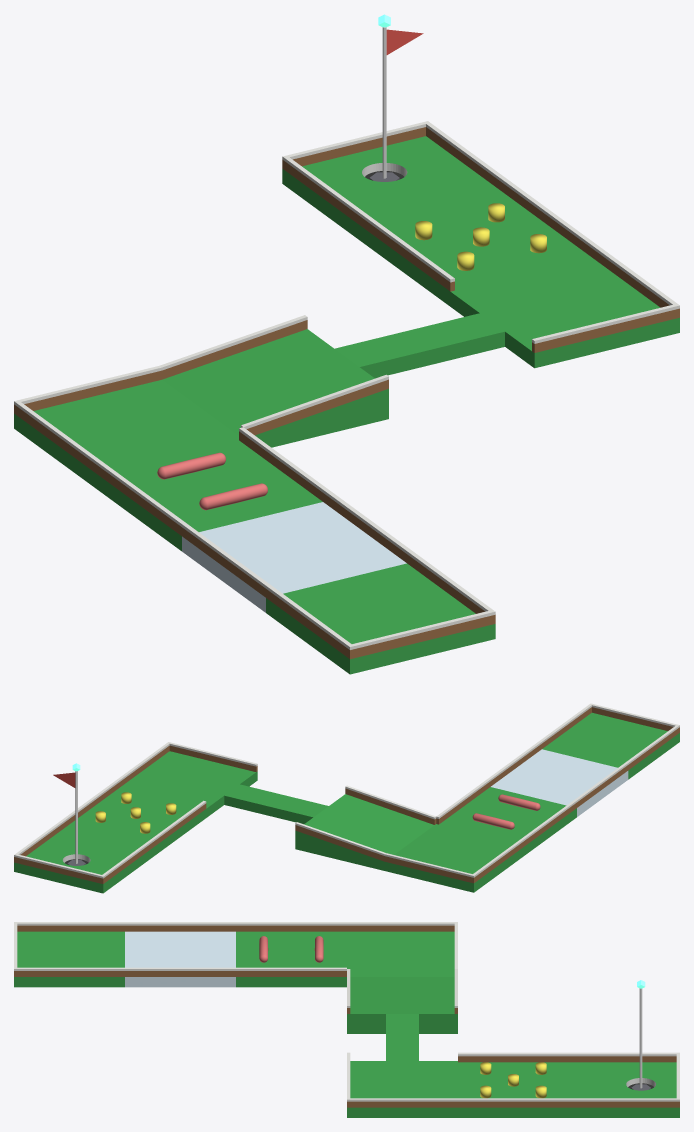
File: level_03.glb
The picture shows the model from 3 angles, top to bottom: view 1: azimuth 30°, elevation 25°; view 2: azimuth 150°, elevation 25°; view 3: azimuth 270°, elevation 25°; orthographic projection. The views are drawn at different scales.
Parts seen in each view (by area): view 1: Corner_Floor (×2), Ramp_Floor, Start_Floor, Ice_Floor, Finish_Floor, Bumpers_Floor, SpinnerTwin_Floor, NarrowBridge_Floor, Corner_Rails (×2), Corner_RailCap (×2), Start_Rails, Finish_Rails (+10 smaller); view 2: Corner_Floor (×2), Ramp_Floor, Finish_Floor, Ice_Floor, Start_Floor, Bumpers_Floor, SpinnerTwin_Floor, NarrowBridge_Floor, Corner_Rails (×2), Corner_RailCap (×2), Finish_Rails, Ramp_Rails (+12 smaller); view 3: Corner_Floor (×2), Ramp_Floor, Ice_Floor, Start_Floor, Finish_Floor, SpinnerTwin_Floor, Bumpers_Floor, Bumpers_Rails, NarrowBridge_Floor, Corner_Rails (×2), Finish_Rails, Ice_Rails (+10 smaller).
Part boxes in pixels (left/top/right/bottom): Corner_Floor (×2): left=14, top=257, right=679, bottom=489; Ramp_Floor: left=162, top=329, right=388, bottom=447; Start_Floor: left=266, top=563, right=495, bottom=674; Ice_Floor: left=182, top=502, right=406, bottom=612; Finish_Floor: left=282, top=136, right=507, bottom=244; Bumpers_Floor: left=366, top=196, right=591, bottom=306; SpinnerTwin_Floor: left=98, top=440, right=322, bottom=551; NarrowBridge_Floor: left=335, top=313, right=504, bottom=378; Corner_Rails (×2): left=14, top=248, right=679, bottom=474; Corner_RailCap (×2): left=14, top=244, right=679, bottom=465; Start_Rails: left=266, top=554, right=495, bottom=659; Finish_Rails: left=282, top=127, right=507, bottom=229; Corner_Floor (×2): left=120, top=751, right=525, bottom=892; Ramp_Floor: left=295, top=794, right=434, bottom=870; Finish_Floor: left=14, top=825, right=154, bottom=893; Ice_Floor: left=491, top=749, right=628, bottom=816; Start_Floor: left=542, top=712, right=679, bottom=779; Bumpers_Floor: left=68, top=788, right=206, bottom=855; SpinnerTwin_Floor: left=439, top=787, right=576, bottom=854; NarrowBridge_Floor: left=224, top=784, right=328, bottom=824; Corner_Rails (×2): left=119, top=745, right=525, bottom=883; Corner_RailCap (×2): left=117, top=742, right=525, bottom=877; Finish_Rails: left=14, top=820, right=154, bottom=883; Ramp_Rails: left=295, top=788, right=436, bottom=861; Corner_Floor (×2): left=347, top=931, right=457, bottom=1117; Ramp_Floor: left=347, top=977, right=457, bottom=1033; Ice_Floor: left=125, top=931, right=235, bottom=987; Start_Floor: left=14, top=931, right=124, bottom=987; Finish_Floor: left=569, top=1062, right=679, bottom=1117; SpinnerTwin_Floor: left=236, top=931, right=346, bottom=987; Bumpers_Floor: left=458, top=1062, right=568, bottom=1117; Bumpers_Rails: left=458, top=1056, right=568, bottom=1107; NarrowBridge_Floor: left=386, top=1014, right=418, bottom=1060; Corner_Rails (×2): left=347, top=925, right=457, bottom=1107; Finish_Rails: left=569, top=1056, right=679, bottom=1107; Ice_Rails: left=125, top=925, right=235, bottom=976.
Size of what is drawn, in the model's own units: 40 by 12.38 by 60.
